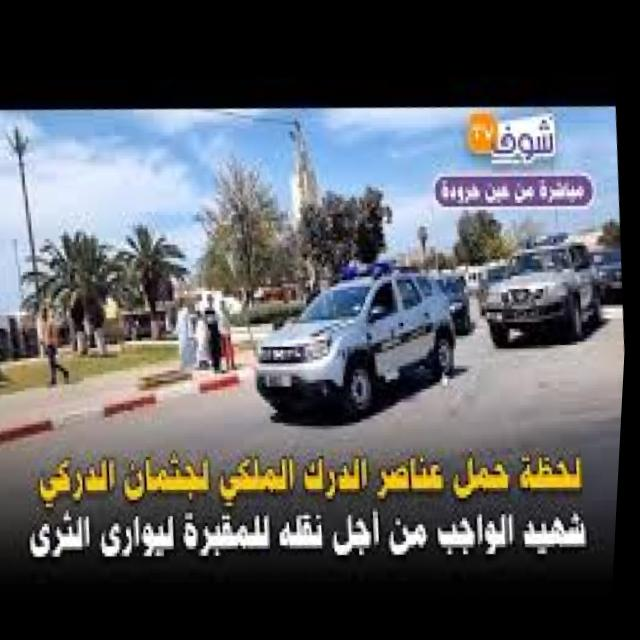gendarme car: (241, 233, 478, 434)
